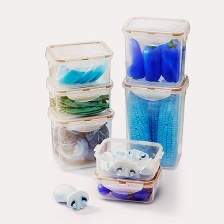plastic_box: (118, 66, 192, 174), (117, 11, 194, 90), (87, 133, 167, 208), (42, 101, 118, 174), (39, 36, 116, 93), (42, 70, 117, 120)
